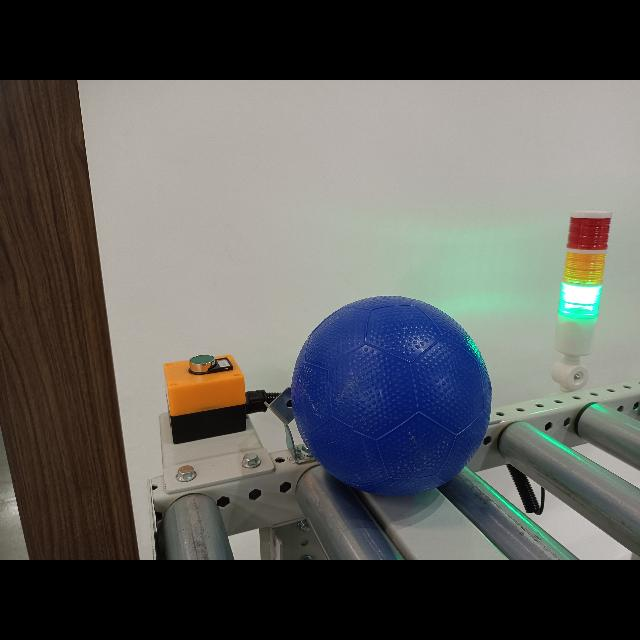B: (294, 292, 494, 502)
